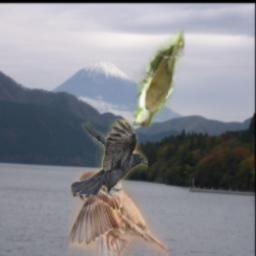Crow: (72, 120, 149, 196)
Cuckoo: (134, 20, 186, 126)
Sparrow: (68, 171, 168, 256)
